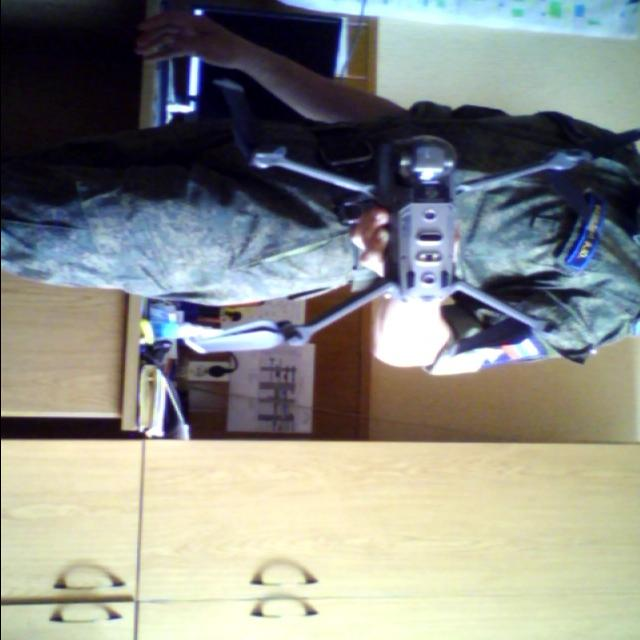drone: (233, 126, 640, 359)
